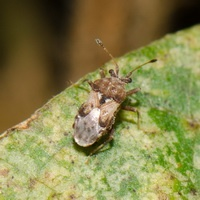insect: (73, 39, 156, 146)
